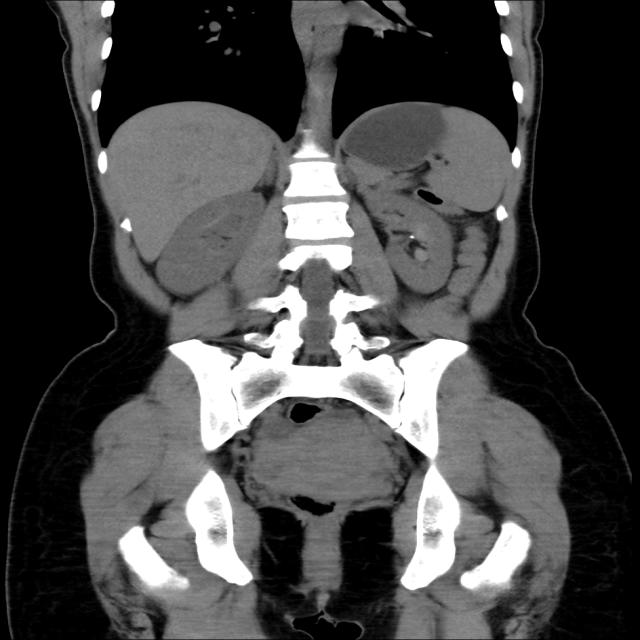kidneystone: (409, 234, 414, 238)
